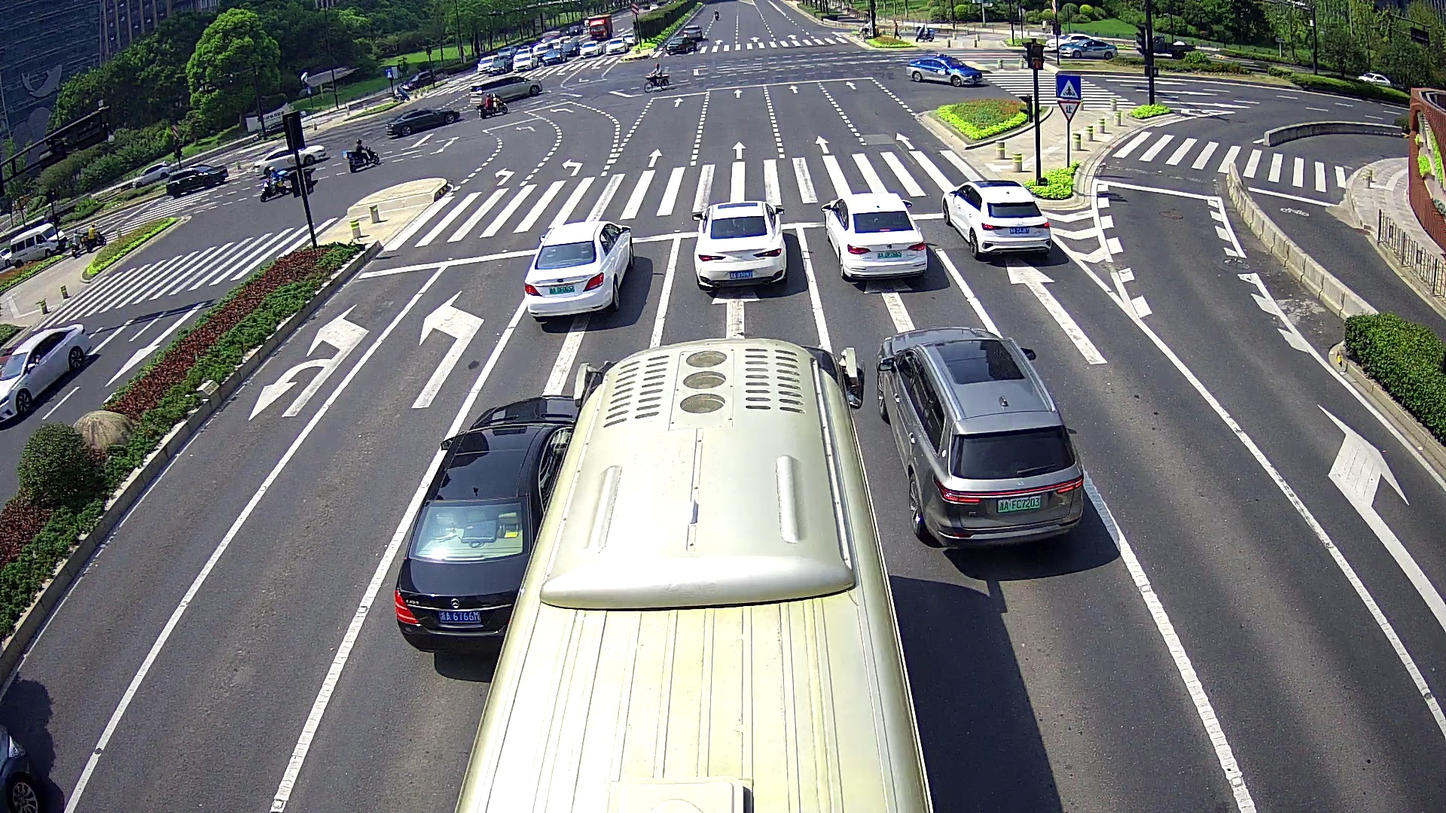vehicle: (475, 337, 916, 813), (390, 391, 578, 657), (872, 321, 1088, 547), (520, 216, 635, 320), (816, 190, 930, 285), (938, 177, 1056, 263), (689, 196, 791, 295), (2, 319, 94, 427), (904, 49, 987, 90), (5, 219, 67, 260), (463, 74, 539, 106), (160, 159, 229, 194), (382, 105, 462, 134), (252, 141, 325, 171), (254, 178, 303, 203), (340, 147, 382, 171), (476, 99, 515, 120), (642, 69, 670, 92)
